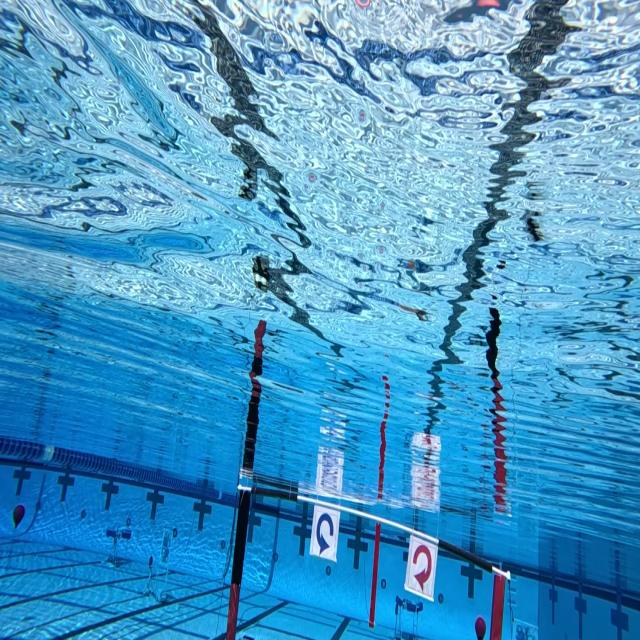blue_side: (306, 494, 344, 568)
red_side: (399, 526, 446, 607)
